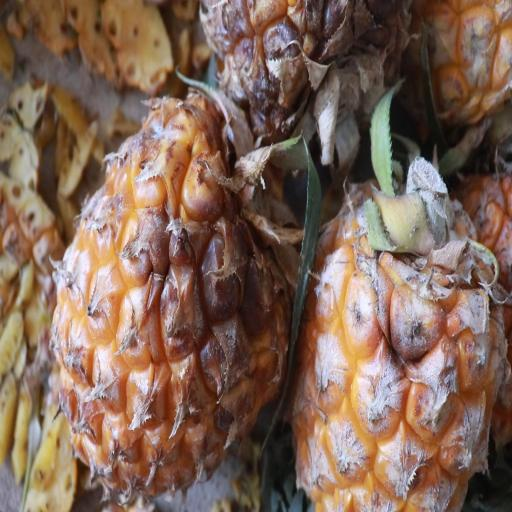Pineapple - v8 v1: (49, 71, 292, 512), (290, 154, 512, 512)
